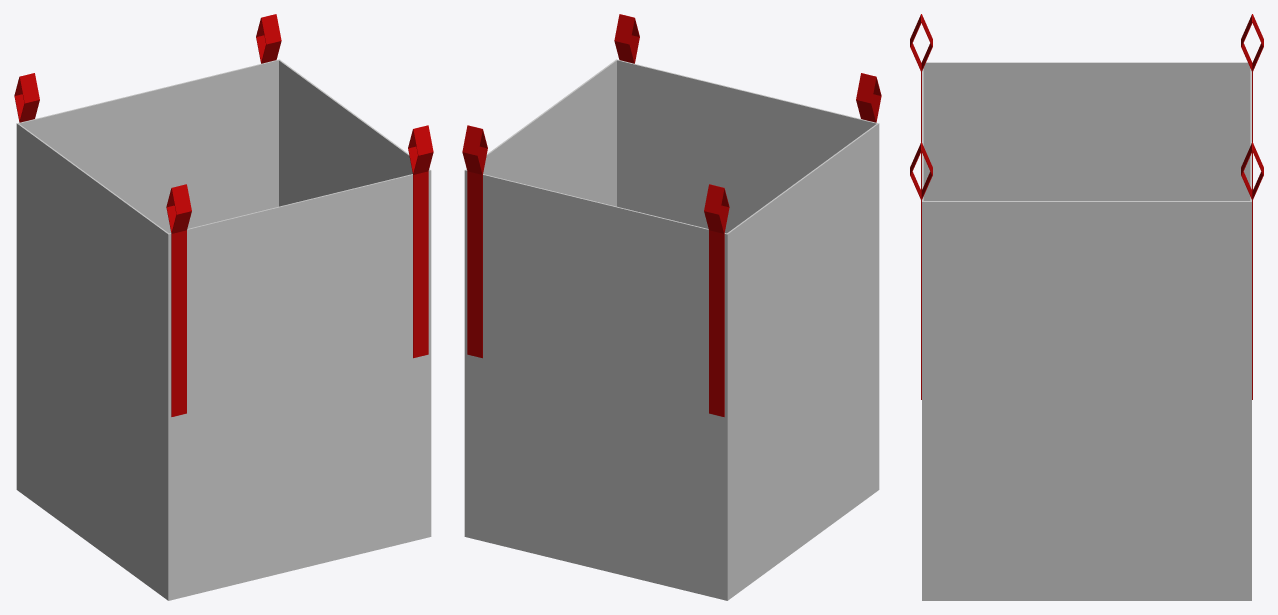
Rendered from Stoles BigBag.dae.
3 views of the same model, side by side, from view 1: azimuth 30°, elevation 25°; view 2: azimuth 150°, elevation 25°; view 3: azimuth 270°, elevation 25° (orthographic). The views are drawn at different scales.
Visible parts, largest first — view 1: group_1 (×2), group_5, group_2, group_4, group_3; view 2: group_1 (×2), group_4, group_3, group_5, group_2; view 3: group_1 (×2), group_4, group_5.
Boxes of the visible parts, box(x1,y1,x2,y2) form: group_1 (×2): box(16, 59, 431, 600); group_5: box(408, 125, 433, 358); group_2: box(166, 184, 191, 416); group_4: box(256, 14, 281, 63); group_3: box(14, 73, 39, 122); group_1 (×2): box(464, 59, 879, 600); group_4: box(462, 125, 487, 358); group_3: box(704, 184, 729, 416); group_5: box(614, 14, 639, 63); group_2: box(856, 73, 881, 122); group_1 (×2): box(922, 62, 1251, 600); group_4: box(1241, 142, 1263, 399); group_5: box(910, 142, 932, 399).
Bounding box in the file's own units: 35.43 × 37.95 × 53.15.
